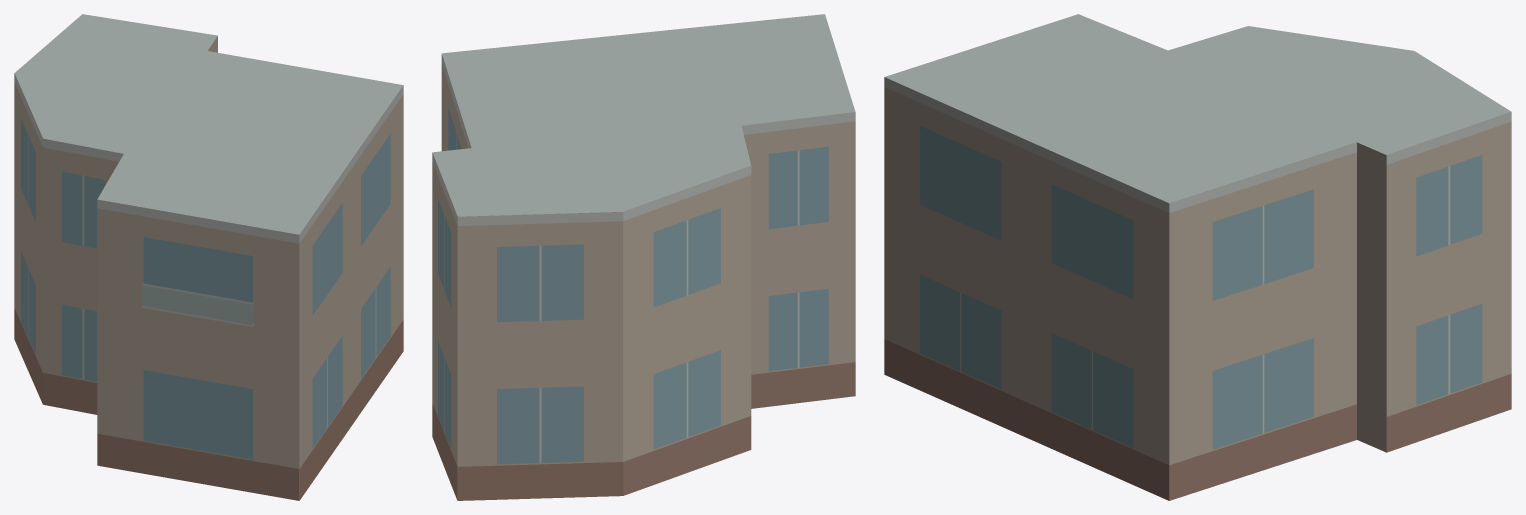
File: survey-upis-32506508.glb
The picture shows the model from 3 angles, left to right: view 1: azimuth 30°, elevation 25°; view 2: azimuth 150°, elevation 25°; view 3: azimuth 270°, elevation 25°; orthographic projection. The views are drawn at different scales.
Parts seen in each view (by area): view 1: survey-upis-32506508.tmp; view 2: survey-upis-32506508.tmp; view 3: survey-upis-32506508.tmp.
Part boxes in pixels (<box>): survey-upis-32506508.tmp: <box>14,14,403,500</box>; survey-upis-32506508.tmp: <box>432,14,855,500</box>; survey-upis-32506508.tmp: <box>884,14,1511,500</box>.
Size of the model in its own units: 10.04 by 7.35 by 14.05.
